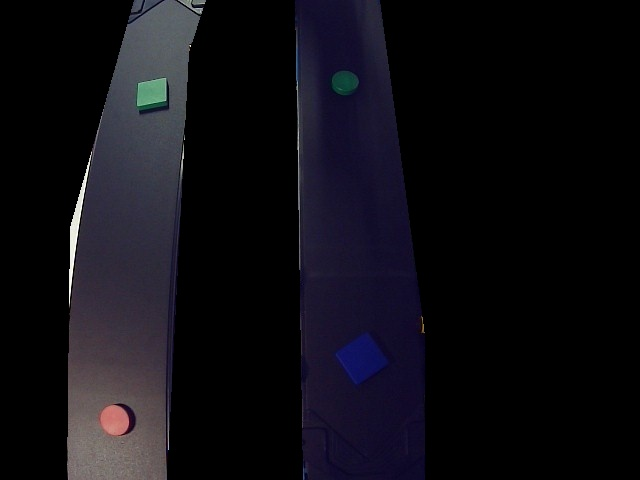Blue_Square: (335, 330, 389, 382)
Green_Circle: (331, 71, 361, 94)
Green_Square: (136, 73, 169, 112)
Red_Circle: (99, 403, 135, 438)
